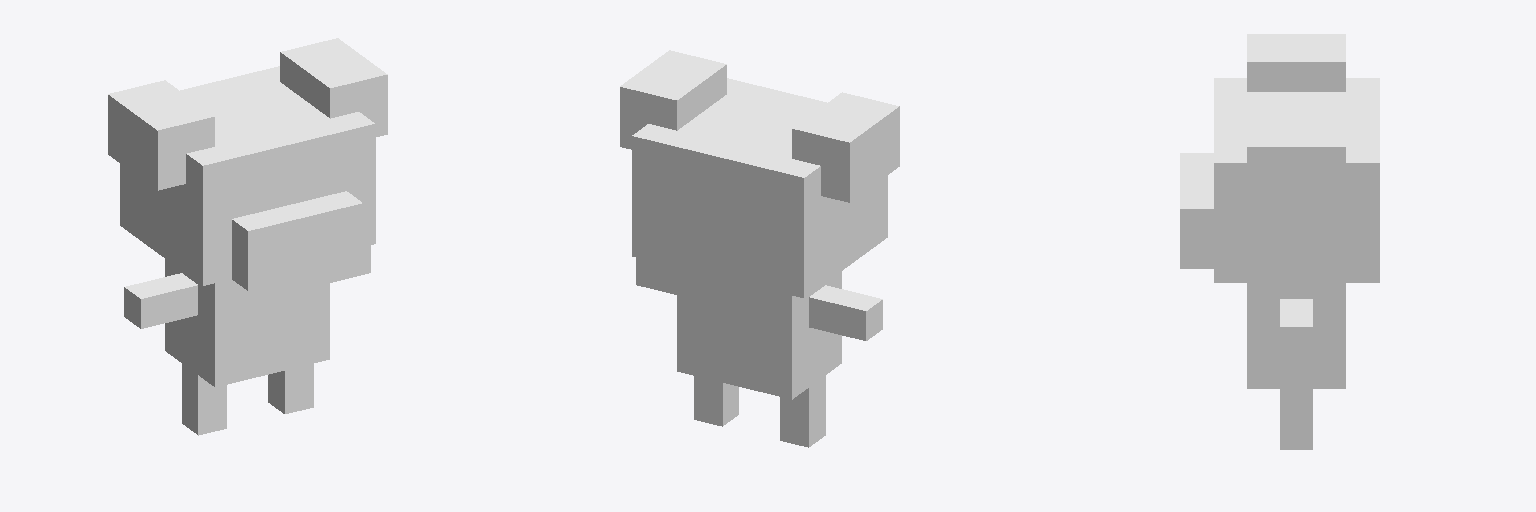
Rendered from teddy_bear.obj.
3 renders of one model, left to right at view 1: azimuth 30°, elevation 25°; view 2: azimuth 150°, elevation 25°; view 3: azimuth 270°, elevation 25°, orthographic.
Parts seen in each view (by area): view 1: object 1; view 2: object 1; view 3: object 1.
Part boxes in pixels (bbox=[...]): object 1: bbox=[108, 38, 387, 435]; object 1: bbox=[620, 50, 899, 447]; object 1: bbox=[1180, 34, 1379, 449].
Size of the model in its own units: 0.8 by 1.1 by 0.6.